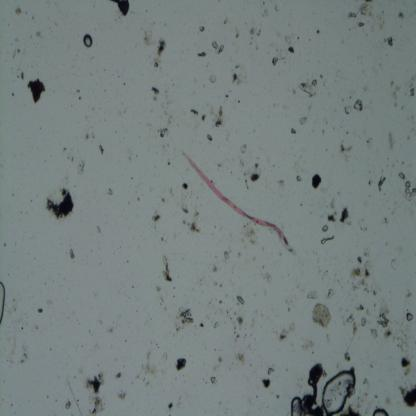Air bubble: (323, 365, 356, 416), (289, 395, 306, 416), (0, 279, 7, 324), (371, 406, 388, 416), (83, 33, 93, 48)
Background material: (82, 364, 109, 416), (44, 186, 75, 220), (307, 358, 322, 416), (308, 300, 333, 329), (27, 78, 47, 104), (398, 380, 416, 406), (107, 0, 130, 20), (239, 223, 258, 247), (296, 77, 320, 95), (160, 250, 172, 284), (356, 0, 376, 20), (276, 322, 298, 340), (212, 104, 227, 128), (178, 304, 194, 326), (387, 80, 400, 106), (346, 314, 359, 338), (393, 333, 410, 351), (155, 38, 167, 62), (399, 356, 413, 375), (17, 343, 29, 364), (75, 158, 89, 176), (338, 206, 352, 224), (342, 404, 362, 416), (404, 180, 416, 200), (309, 173, 322, 191), (144, 28, 156, 47), (302, 336, 316, 351), (348, 265, 364, 278), (402, 307, 415, 323), (359, 278, 371, 295), (377, 309, 388, 327), (174, 357, 187, 371), (190, 220, 202, 235), (386, 130, 396, 148), (232, 312, 243, 328), (233, 294, 247, 306), (248, 171, 262, 183), (145, 362, 157, 376), (149, 86, 161, 100), (155, 127, 170, 138), (383, 37, 395, 50), (296, 114, 308, 127), (211, 41, 223, 54), (280, 32, 293, 44), (259, 0, 268, 17), (354, 98, 364, 113), (320, 235, 336, 244), (390, 257, 401, 270), (238, 140, 247, 155), (116, 389, 127, 401), (340, 144, 352, 155), (356, 220, 368, 231), (307, 288, 318, 300), (406, 84, 415, 98), (376, 178, 388, 188), (342, 104, 352, 116), (166, 110, 173, 127), (264, 270, 273, 283), (152, 211, 160, 225), (369, 328, 379, 339), (233, 72, 243, 83), (97, 144, 106, 156), (355, 395, 362, 410), (348, 10, 358, 20), (327, 213, 337, 223), (105, 186, 114, 197), (209, 73, 218, 84), (266, 365, 275, 376), (271, 54, 278, 68), (12, 47, 20, 59), (363, 134, 371, 146), (14, 3, 21, 16), (223, 15, 232, 25), (382, 396, 392, 405), (262, 377, 271, 387), (236, 354, 245, 364), (363, 247, 371, 258), (209, 374, 216, 386), (360, 315, 367, 327), (180, 181, 189, 190), (321, 223, 330, 232), (396, 10, 404, 20), (326, 288, 334, 298), (189, 109, 199, 117), (182, 204, 190, 213), (383, 328, 392, 336), (248, 26, 256, 35), (64, 400, 72, 409), (199, 114, 207, 123), (397, 172, 406, 180), (68, 248, 74, 260), (344, 351, 351, 361), (106, 326, 117, 332), (278, 54, 286, 62), (206, 132, 214, 140), (153, 61, 161, 69), (144, 381, 152, 389), (6, 356, 14, 364), (174, 324, 182, 332), (321, 368, 327, 378), (355, 304, 365, 310), (168, 400, 174, 410), (329, 200, 335, 210), (364, 269, 370, 279), (290, 130, 298, 137), (161, 353, 168, 361), (133, 373, 141, 380), (382, 219, 390, 226), (224, 249, 229, 260), (146, 350, 152, 359), (363, 377, 369, 386), (197, 52, 207, 57), (90, 130, 95, 140), (115, 372, 122, 379), (357, 21, 364, 28), (212, 264, 218, 272), (199, 320, 205, 328), (368, 178, 374, 186), (38, 306, 44, 314), (351, 283, 357, 291), (356, 256, 362, 264), (274, 2, 279, 11), (288, 46, 294, 53), (254, 162, 260, 169), (233, 32, 239, 39), (277, 179, 285, 184), (192, 211, 200, 216), (236, 251, 242, 257), (160, 296, 164, 305), (296, 175, 302, 181), (156, 285, 161, 292), (239, 159, 244, 166), (324, 269, 329, 276), (256, 28, 260, 36), (319, 74, 324, 80), (407, 292, 412, 298), (213, 322, 219, 327), (2, 242, 7, 248), (142, 375, 146, 382), (372, 289, 376, 296), (21, 72, 24, 81), (217, 162, 222, 167), (35, 31, 40, 36), (224, 94, 229, 99), (200, 26, 204, 32), (214, 280, 218, 286), (160, 198, 166, 202), (276, 394, 280, 400), (34, 324, 38, 330), (10, 91, 14, 97), (322, 127, 325, 135), (96, 227, 100, 233), (217, 359, 223, 363), (219, 298, 223, 304), (235, 64, 239, 70), (76, 88, 80, 94), (72, 155, 75, 162), (85, 134, 89, 139), (316, 30, 320, 35), (124, 338, 128, 343), (299, 202, 303, 207), (14, 37, 19, 41), (29, 198, 33, 203), (297, 35, 301, 40), (130, 284, 135, 288), (127, 200, 130, 206), (137, 195, 140, 201), (208, 300, 212, 304), (236, 334, 240, 338), (182, 219, 186, 223), (130, 176, 134, 180), (374, 395, 378, 399), (122, 81, 126, 85), (160, 237, 164, 241), (166, 161, 170, 165), (255, 46, 259, 50), (219, 283, 222, 288), (187, 222, 190, 227), (141, 364, 144, 369), (288, 308, 291, 313), (226, 308, 228, 314), (73, 375, 76, 379), (230, 316, 233, 320), (346, 130, 349, 134), (79, 95, 82, 99), (173, 286, 176, 289), (131, 382, 134, 385), (49, 348, 52, 351), (54, 399, 57, 402), (237, 100, 240, 103), (126, 260, 129, 263), (245, 180, 247, 184), (21, 326, 23, 330), (64, 147, 66, 151), (247, 186, 249, 190), (173, 294, 175, 298), (12, 193, 14, 197), (20, 211, 22, 215), (46, 396, 49, 398), (76, 399, 79, 401), (11, 403, 13, 406), (258, 157, 260, 159), (200, 279, 202, 281), (168, 414, 170, 416), (234, 331, 235, 335), (205, 382, 207, 384), (175, 377, 176, 380), (244, 173, 245, 176), (203, 379, 204, 381), (231, 172, 232, 174), (273, 165, 274, 167)
Cotton: (178, 150, 295, 258)
